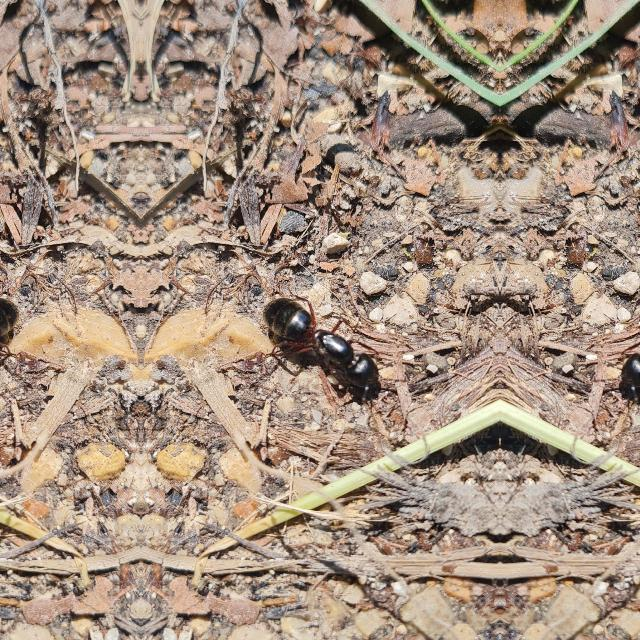Camponotus: (260, 265, 390, 419), (608, 265, 640, 419), (472, 592, 486, 614), (514, 592, 526, 614)
